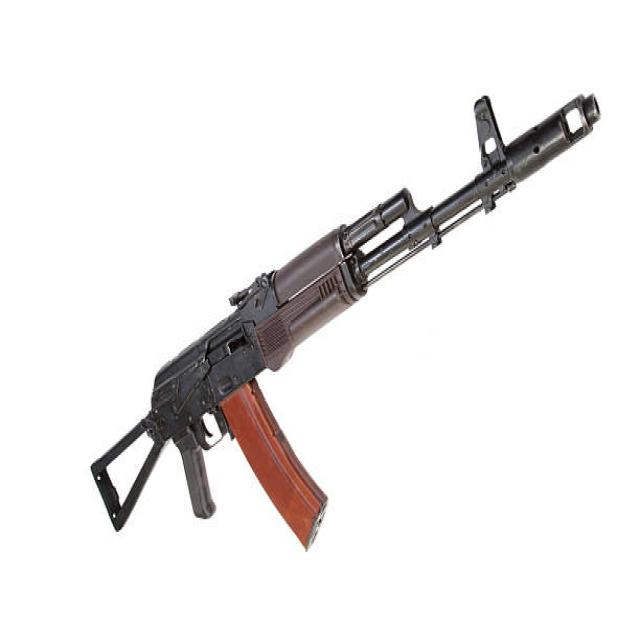rifle: (74, 65, 605, 573)
